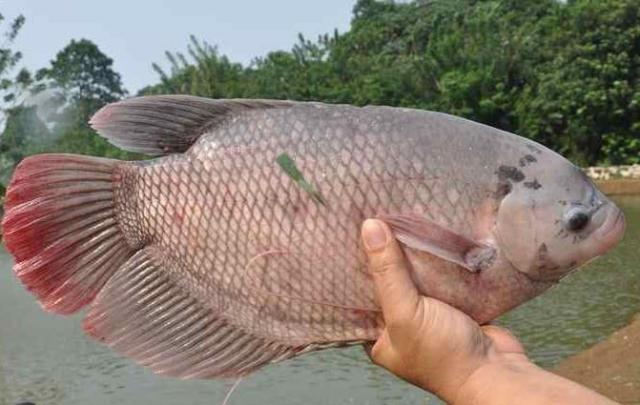Mulut: (566, 184, 638, 282)
Sirip Anal: (75, 246, 292, 402)
Sirip Dada: (369, 196, 505, 288)
Sirip Ekor: (0, 145, 144, 326)
Sirip Punggung: (62, 80, 318, 172)
